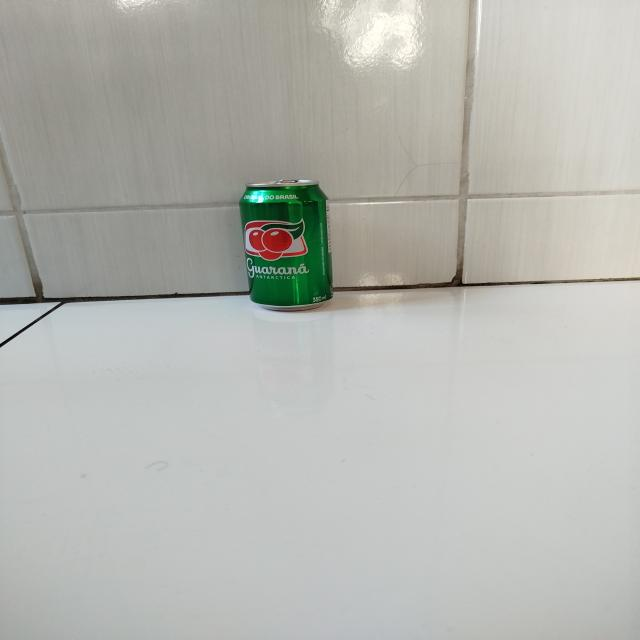Guarana: (237, 178, 339, 316)
